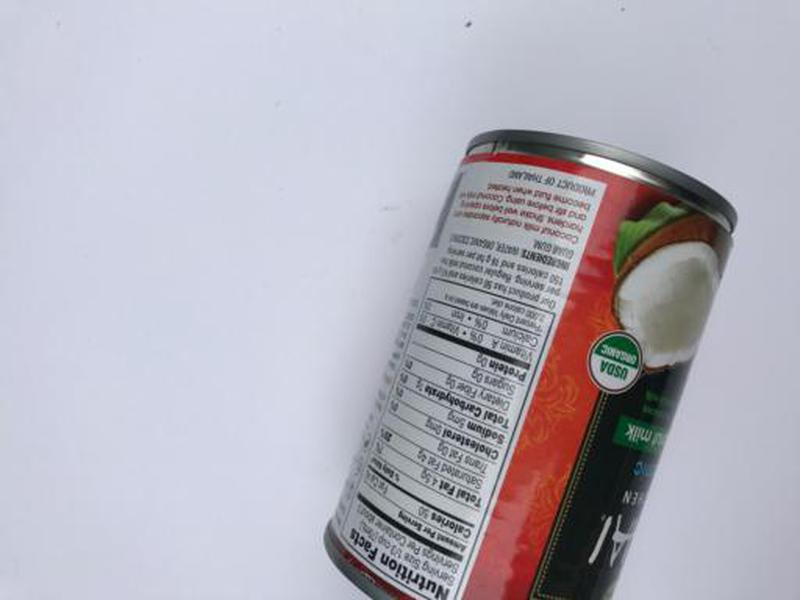can: (313, 118, 742, 600)
